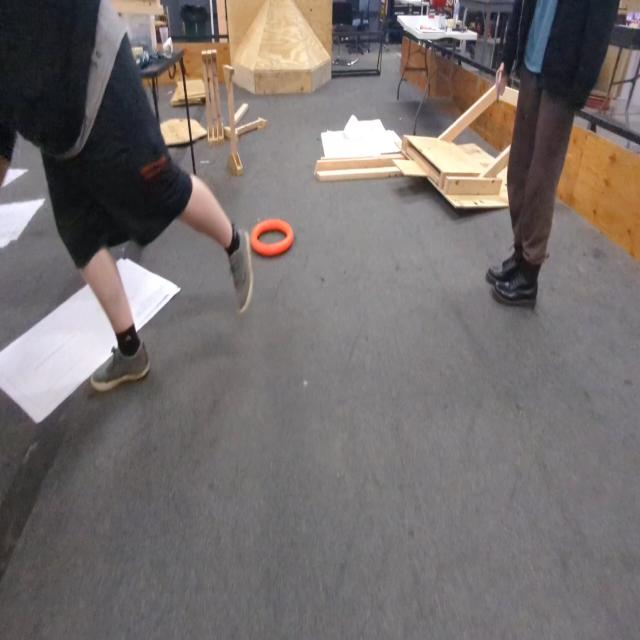note: (252, 218, 296, 258)
